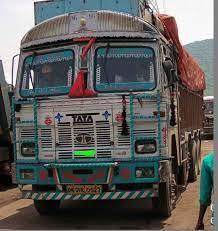truck: (20, 4, 207, 214)
